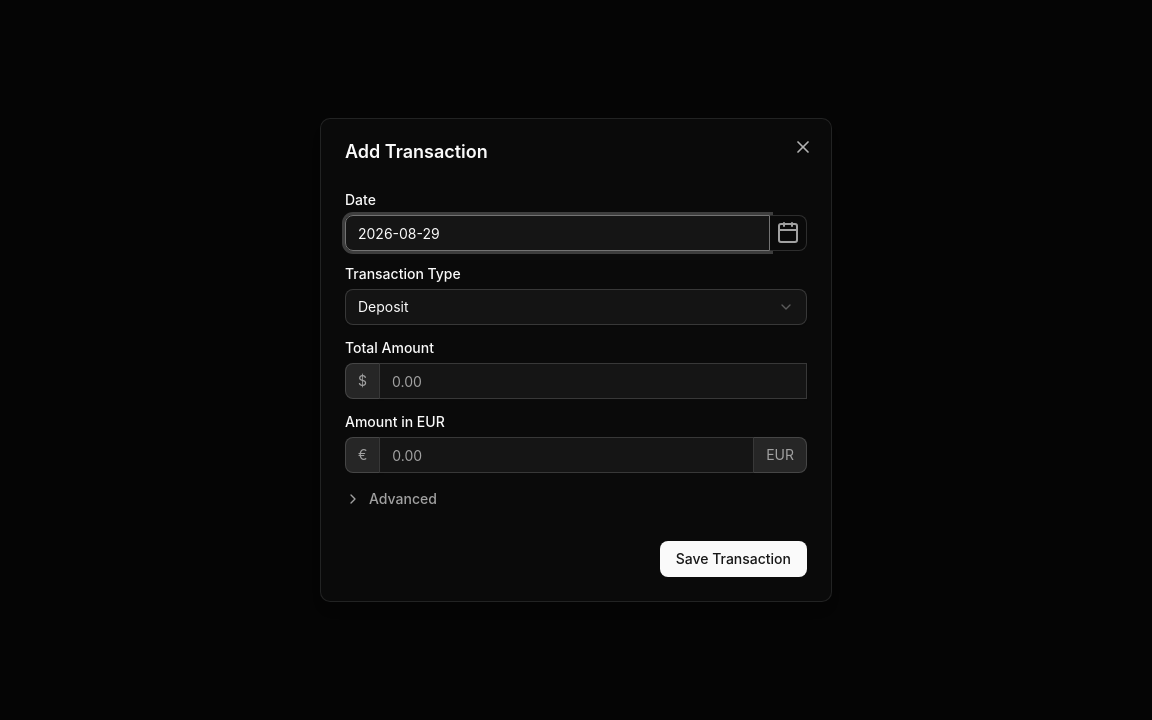
Test: TransactionModal — sell suggestions › renders Select dropdown for ticker when type is SELL
The width and height of the screenshot is (1152, 720).
What coordinates should you click on to do the following:
click the dropdown named "Transaction Type"
I would click on:
 (383, 306)
Its box is [345, 289, 807, 325].
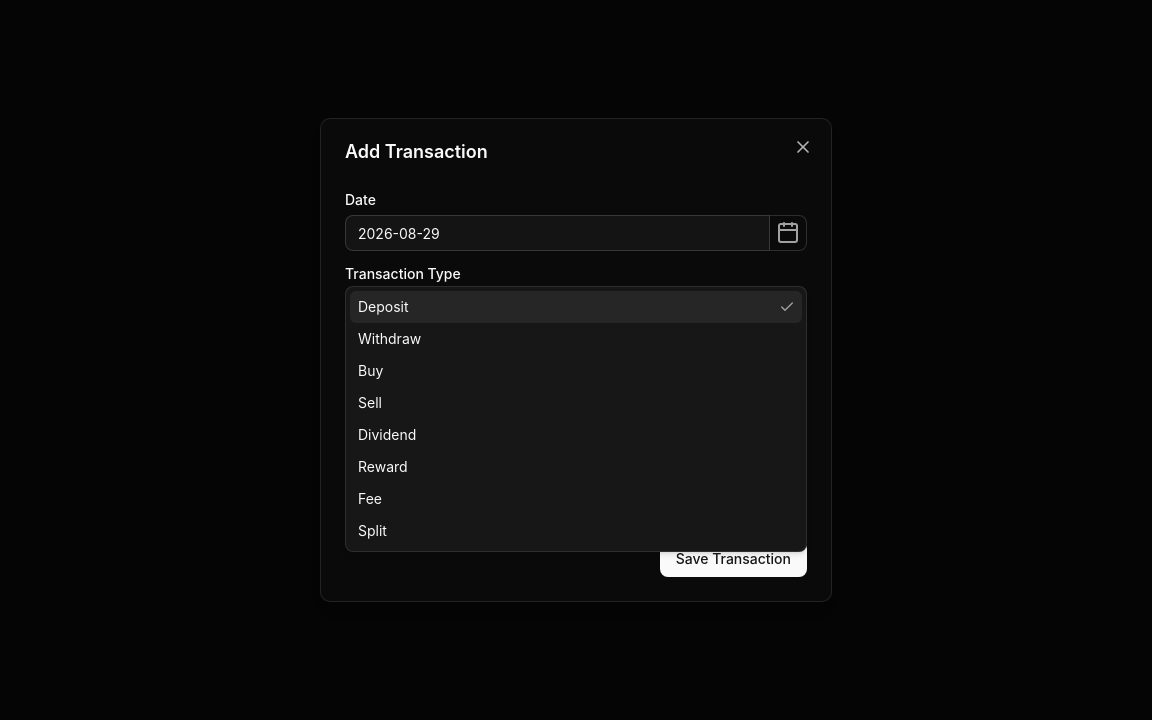
What coordinates should you click on to do the following:
click the option "Sell"
I would click on:
 (370, 402)
Its box is [358, 394, 382, 411].
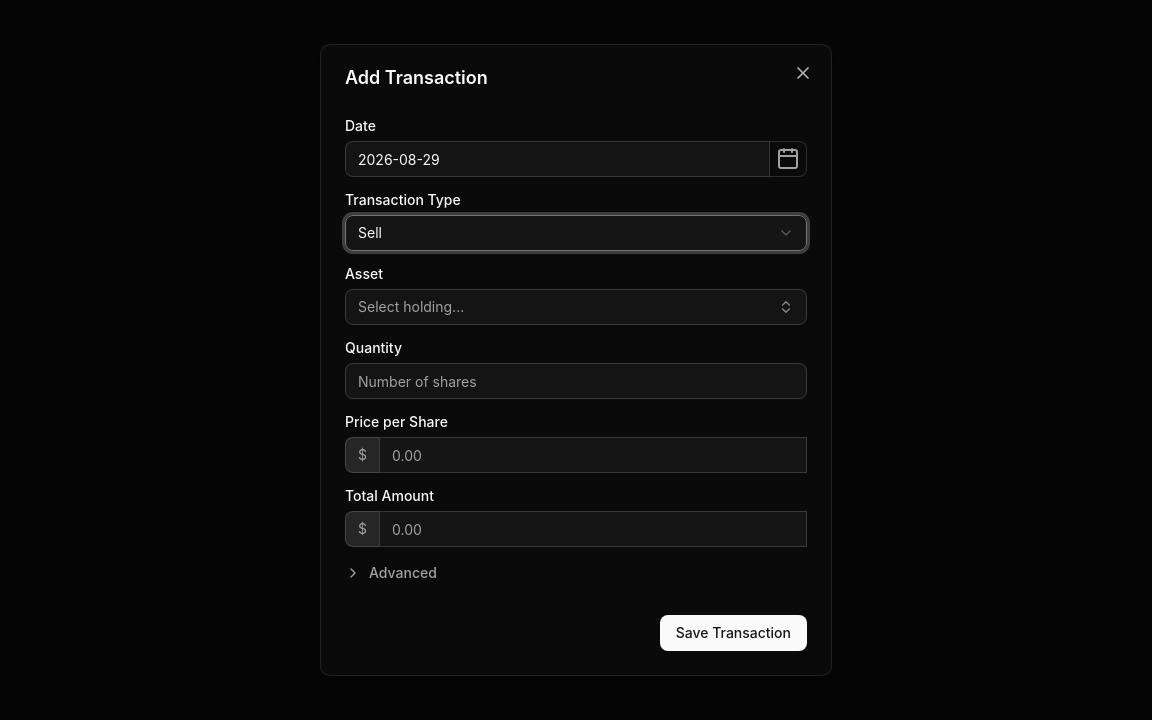
Expected: the dropdown named "Asset" is shown, [345, 289, 807, 325]
